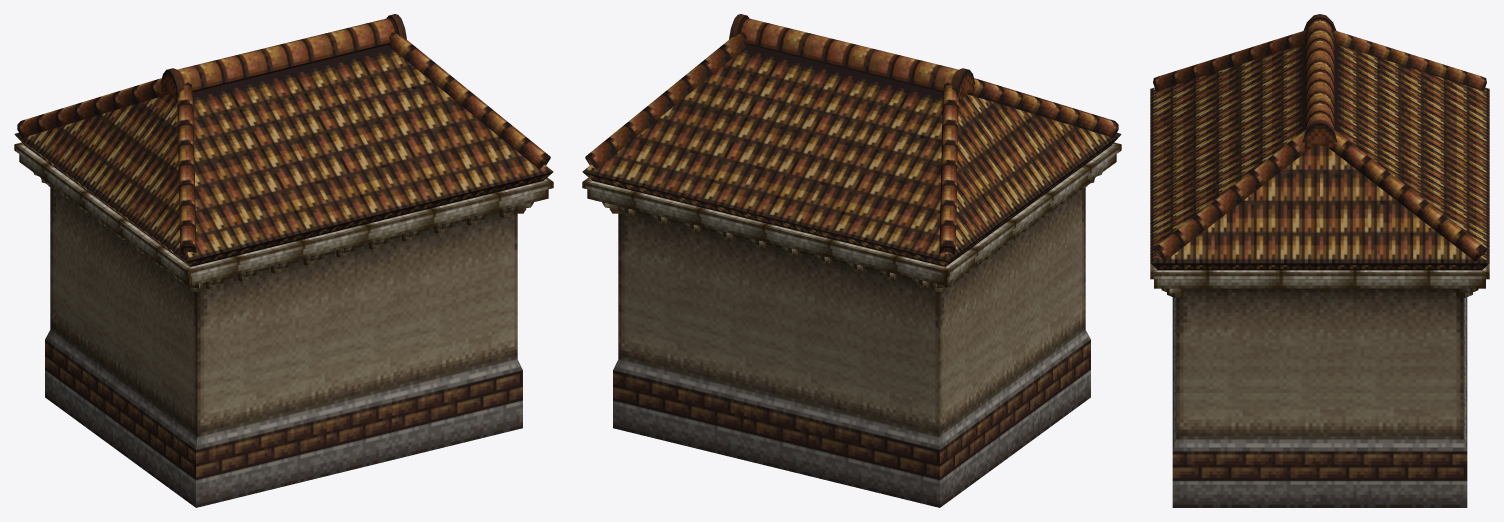
File: EnvBdgMD_Sea_A_Outdoor_Shop_Item_A.FBX
3 renders of one model, left to right at view 1: azimuth 30°, elevation 25°; view 2: azimuth 150°, elevation 25°; view 3: azimuth 270°, elevation 25°, orthographic. The views are drawn at different scales.
Visible parts, largest first — view 1: EnvBdgMD_Sea_A_Outdoor_Shop_Item_A; view 2: EnvBdgMD_Sea_A_Outdoor_Shop_Item_A; view 3: EnvBdgMD_Sea_A_Outdoor_Shop_Item_A.
Boxes of the visible parts, x1,y1,x2,y2 form: EnvBdgMD_Sea_A_Outdoor_Shop_Item_A: [14, 14, 553, 507]; EnvBdgMD_Sea_A_Outdoor_Shop_Item_A: [582, 14, 1121, 507]; EnvBdgMD_Sea_A_Outdoor_Shop_Item_A: [1150, 14, 1489, 507].
Size of the model in its own units: 567 by 541 by 460.
Materials: 2 (2 with a texture image).
